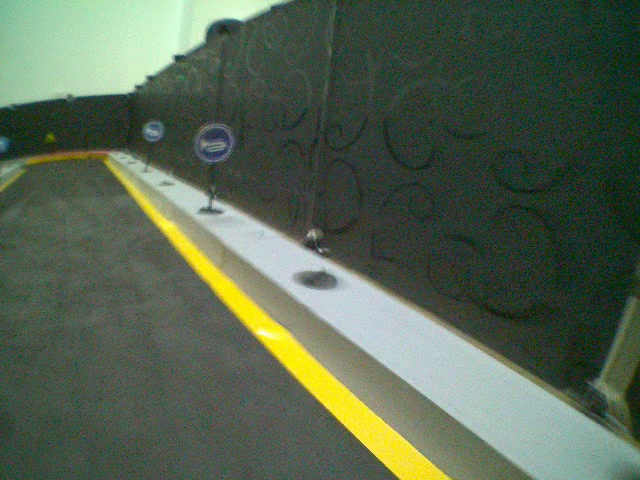horn: (193, 121, 232, 164)
